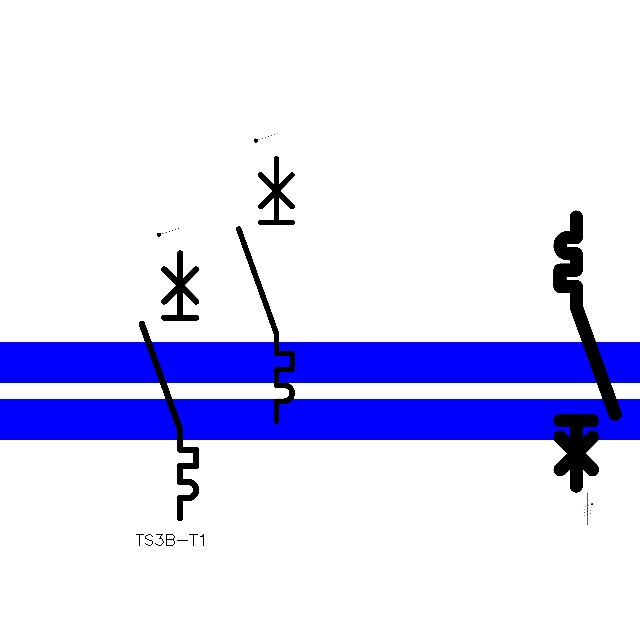interruptor_termomagnetico: (553, 210, 622, 493), (135, 246, 203, 525), (232, 152, 299, 428)
